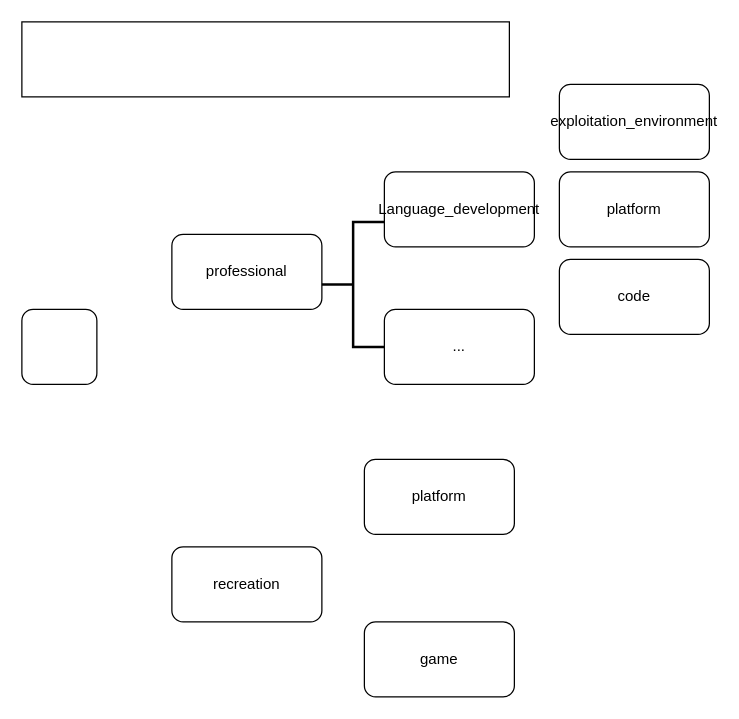
Some shapes in this 739 by 719 pixel diagram are drawn without their labels. The box of each missing label's shape, as (x1, y1, x2, y2) in pixels:
software: (21, 308, 97, 384)
安装软件前把桌面放到D盘 安装软件前把桌面放到D盘 安装软件前把桌面放到D盘: (21, 21, 509, 97)
